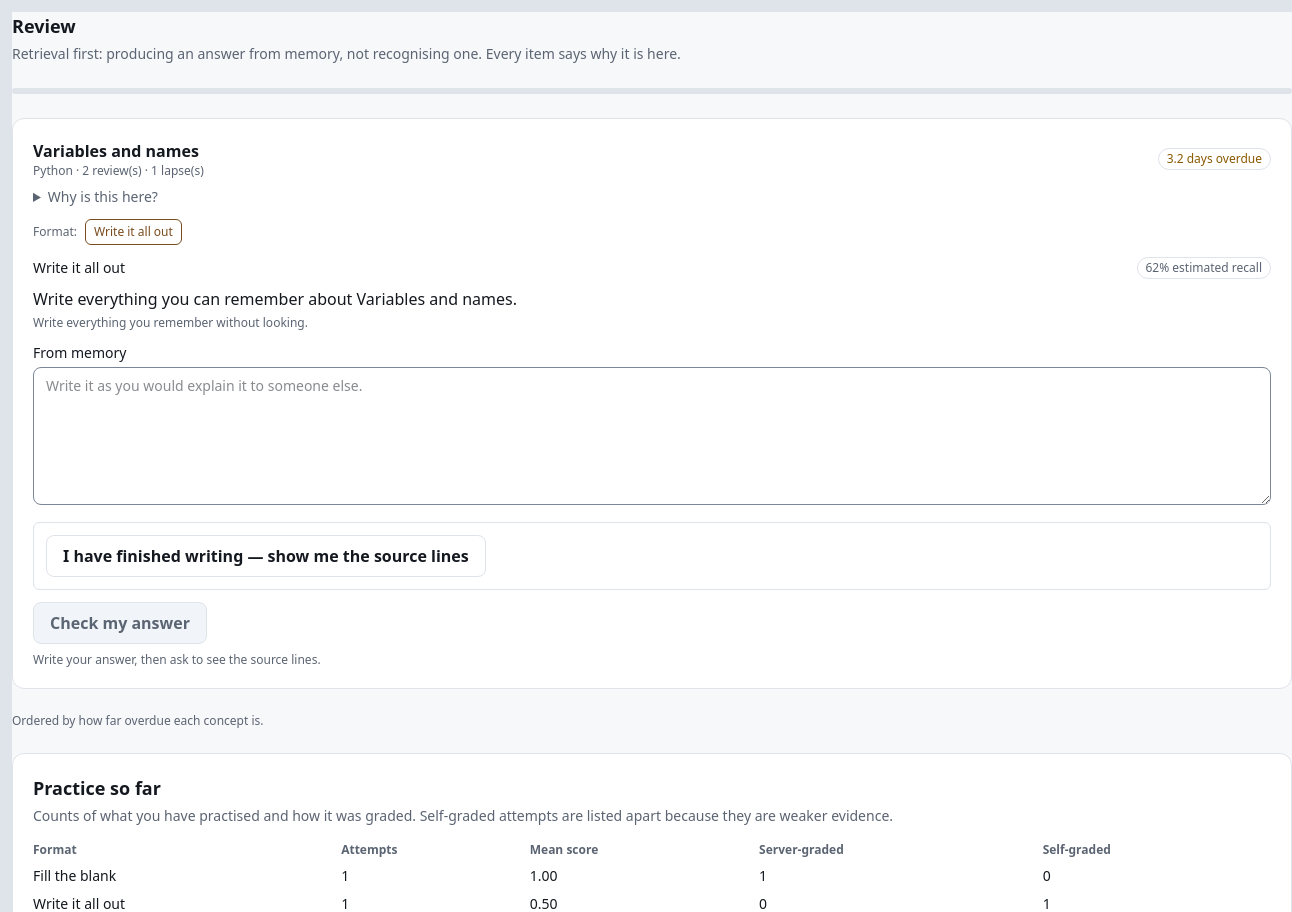
Test: ReviewPage — self-graded recall › withholds the criteria until the learner says they have finished writing
expect the button "Check my answer" is disabled: met, box [33, 602, 207, 644]
Click the button "I have finished writing — show me the source lines" at (266, 556), box [46, 535, 486, 577]
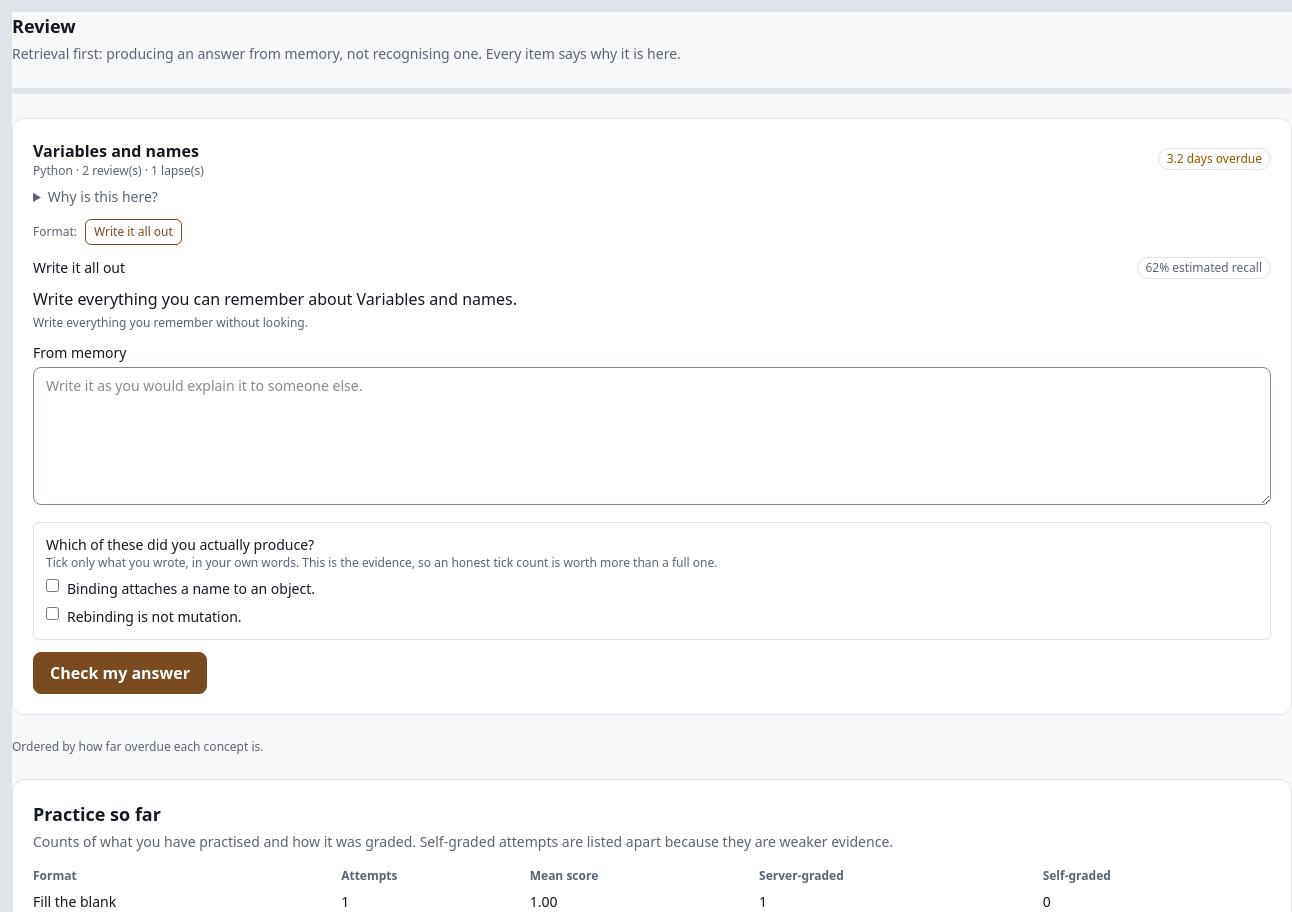
expect the text "Binding attaches a name to an object." is shown: met, box [67, 579, 315, 599]
